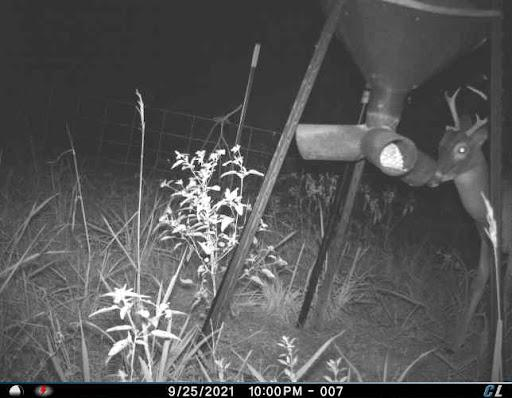Deer: (425, 74, 512, 350)
